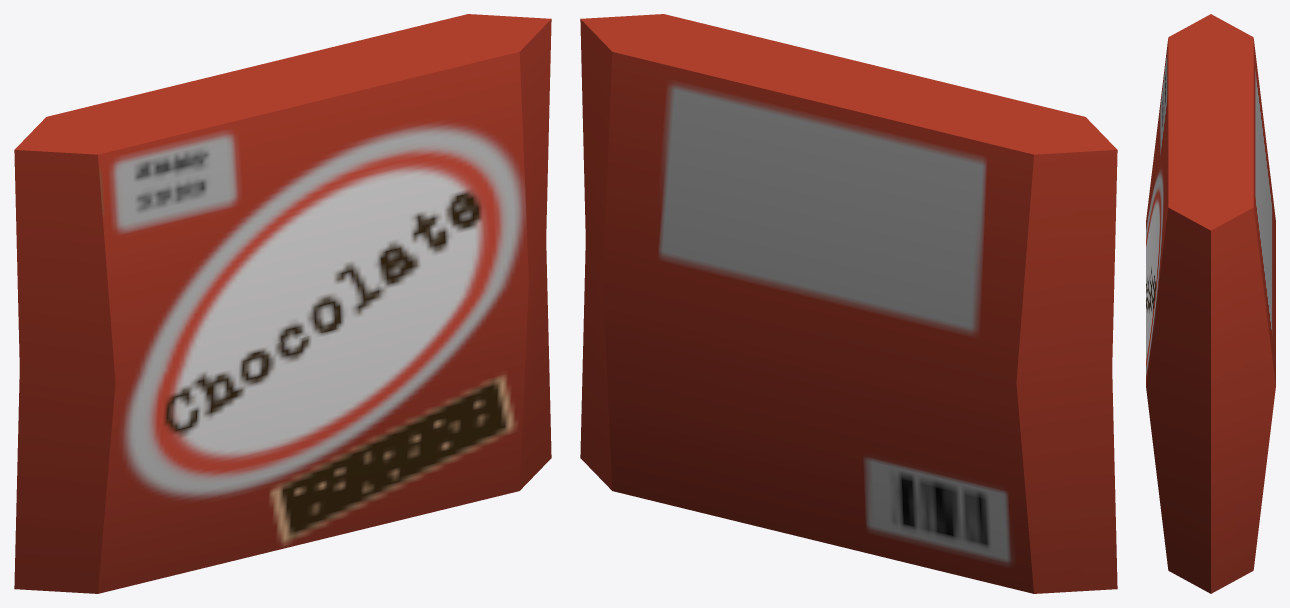
File: Chocolate_01.fbx
3 views of the same model, side by side, from view 1: azimuth 30°, elevation 25°; view 2: azimuth 150°, elevation 25°; view 3: azimuth 270°, elevation 25° (orthographic). The views are drawn at different scales.
Parts seen in each view (by area): view 1: Chocolate_01; view 2: Chocolate_01; view 3: Chocolate_01.
Part boxes in pixels (<box>): Chocolate_01: <box>14,14,551,593</box>; Chocolate_01: <box>580,14,1117,593</box>; Chocolate_01: <box>1146,14,1275,593</box>.
Size of the model in its own units: 16.11 by 12.59 by 4.08.
